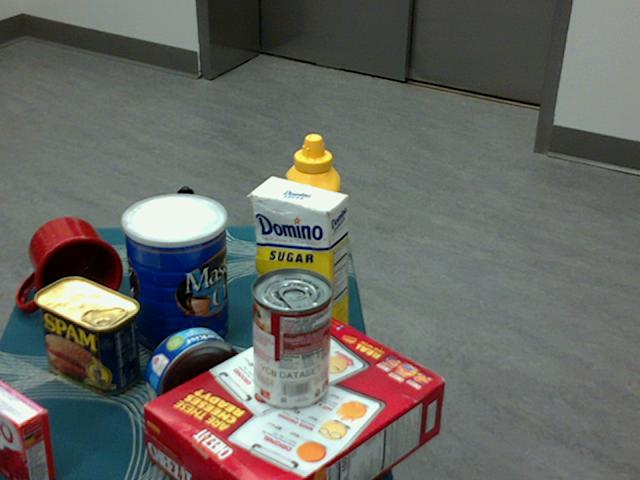cracker_box: (144, 312, 445, 479)
gelatin_box: (0, 377, 55, 479)
large_marker: (177, 185, 197, 282)
master_chef_can: (120, 194, 228, 360)
mug: (19, 216, 122, 315)
mustard_bottle: (283, 133, 338, 310)
potted_meat_can: (34, 275, 139, 394)
sugar_box: (251, 175, 348, 360)
tomato_soup_can: (250, 269, 331, 411)
tuna_fish_can: (144, 327, 242, 423)
